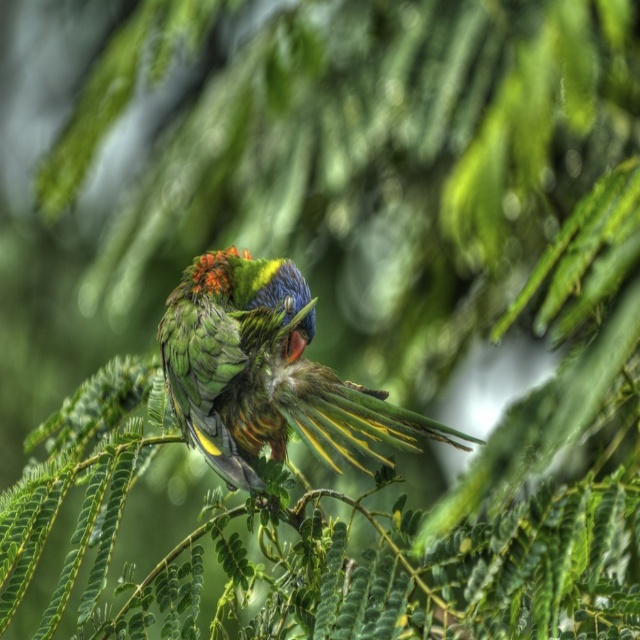Parrot: (155, 248, 489, 495)
